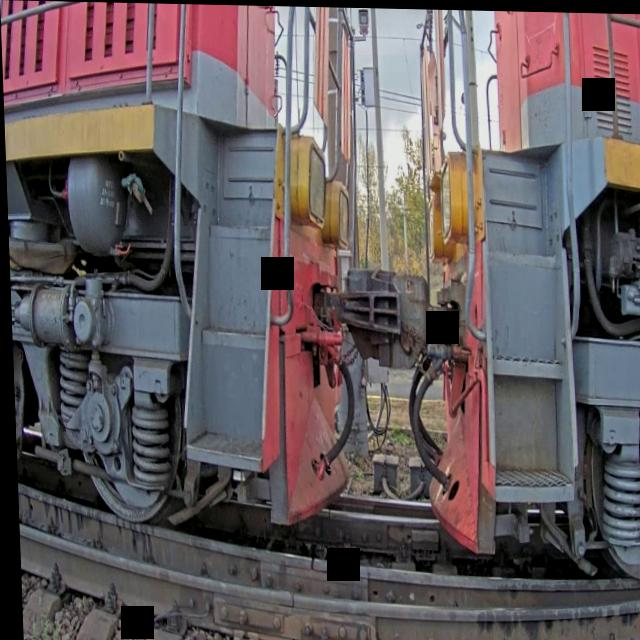locomotive: (0, 0, 389, 576), (400, 7, 640, 586)
